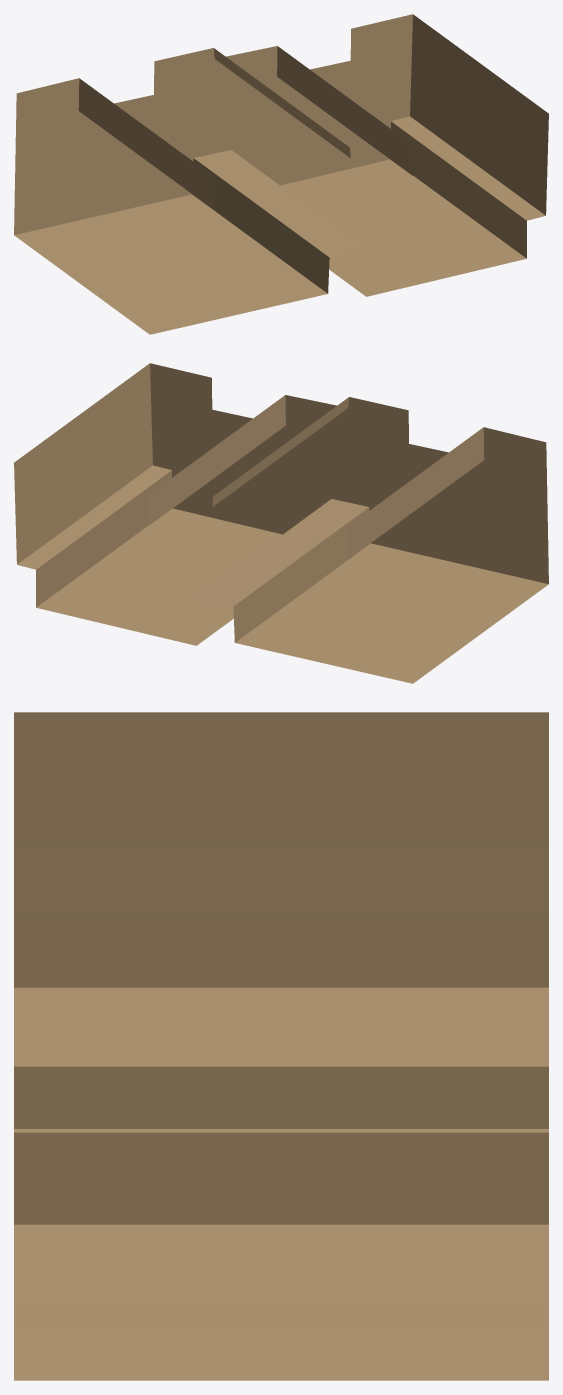
3 views of the same model, one above another, from view 1: azimuth 30°, elevation 25°; view 2: azimuth 150°, elevation 25°; view 3: azimuth 270°, elevation 25° (orthographic). The views are drawn at different scales.
Parts seen in each view (by area): view 1: 0_0_3_1_2_3_1_0_1; view 2: 0_0_3_1_2_3_1_0_1; view 3: 0_0_3_1_2_3_1_0_1.
Boxes of the visible parts, x1=… form: 0_0_3_1_2_3_1_0_1: x1=14, y1=14, x2=548, y2=334; 0_0_3_1_2_3_1_0_1: x1=14, y1=363, x2=548, y2=683; 0_0_3_1_2_3_1_0_1: x1=14, y1=712, x2=548, y2=1380.
Size of the model in its own units: 40.65 by 15.3 by 24.
